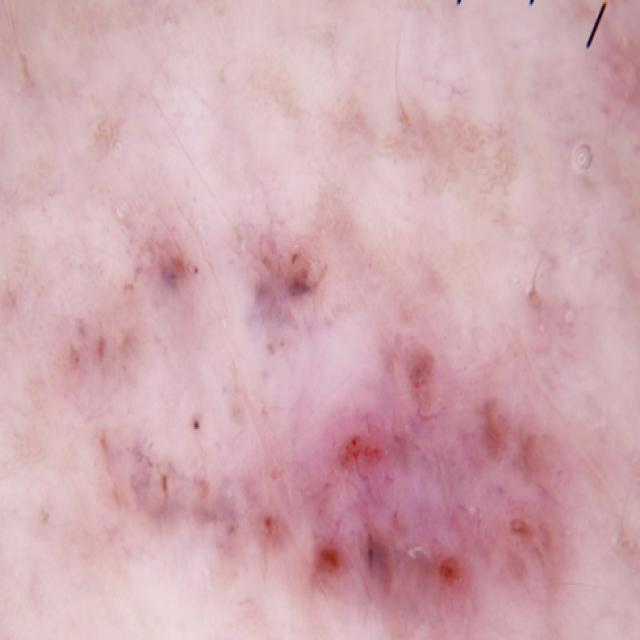Carcinoma: (31, 178, 601, 640)
